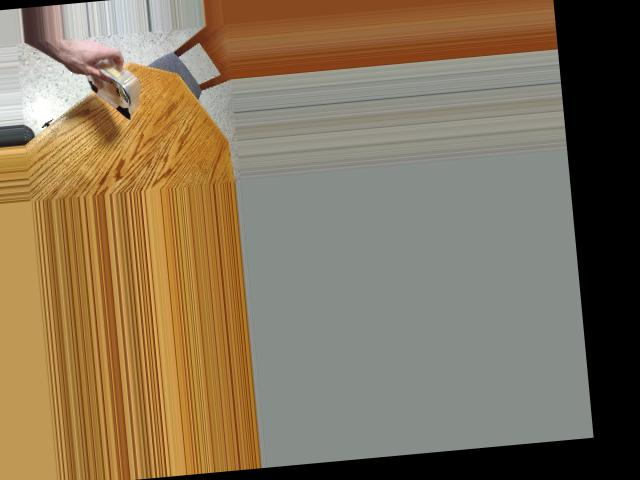cheese: (64, 52, 155, 120)
